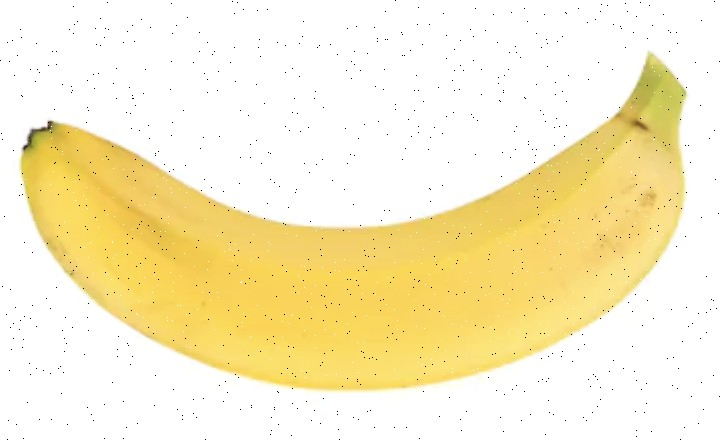fresh_banana: (21, 54, 686, 390)
